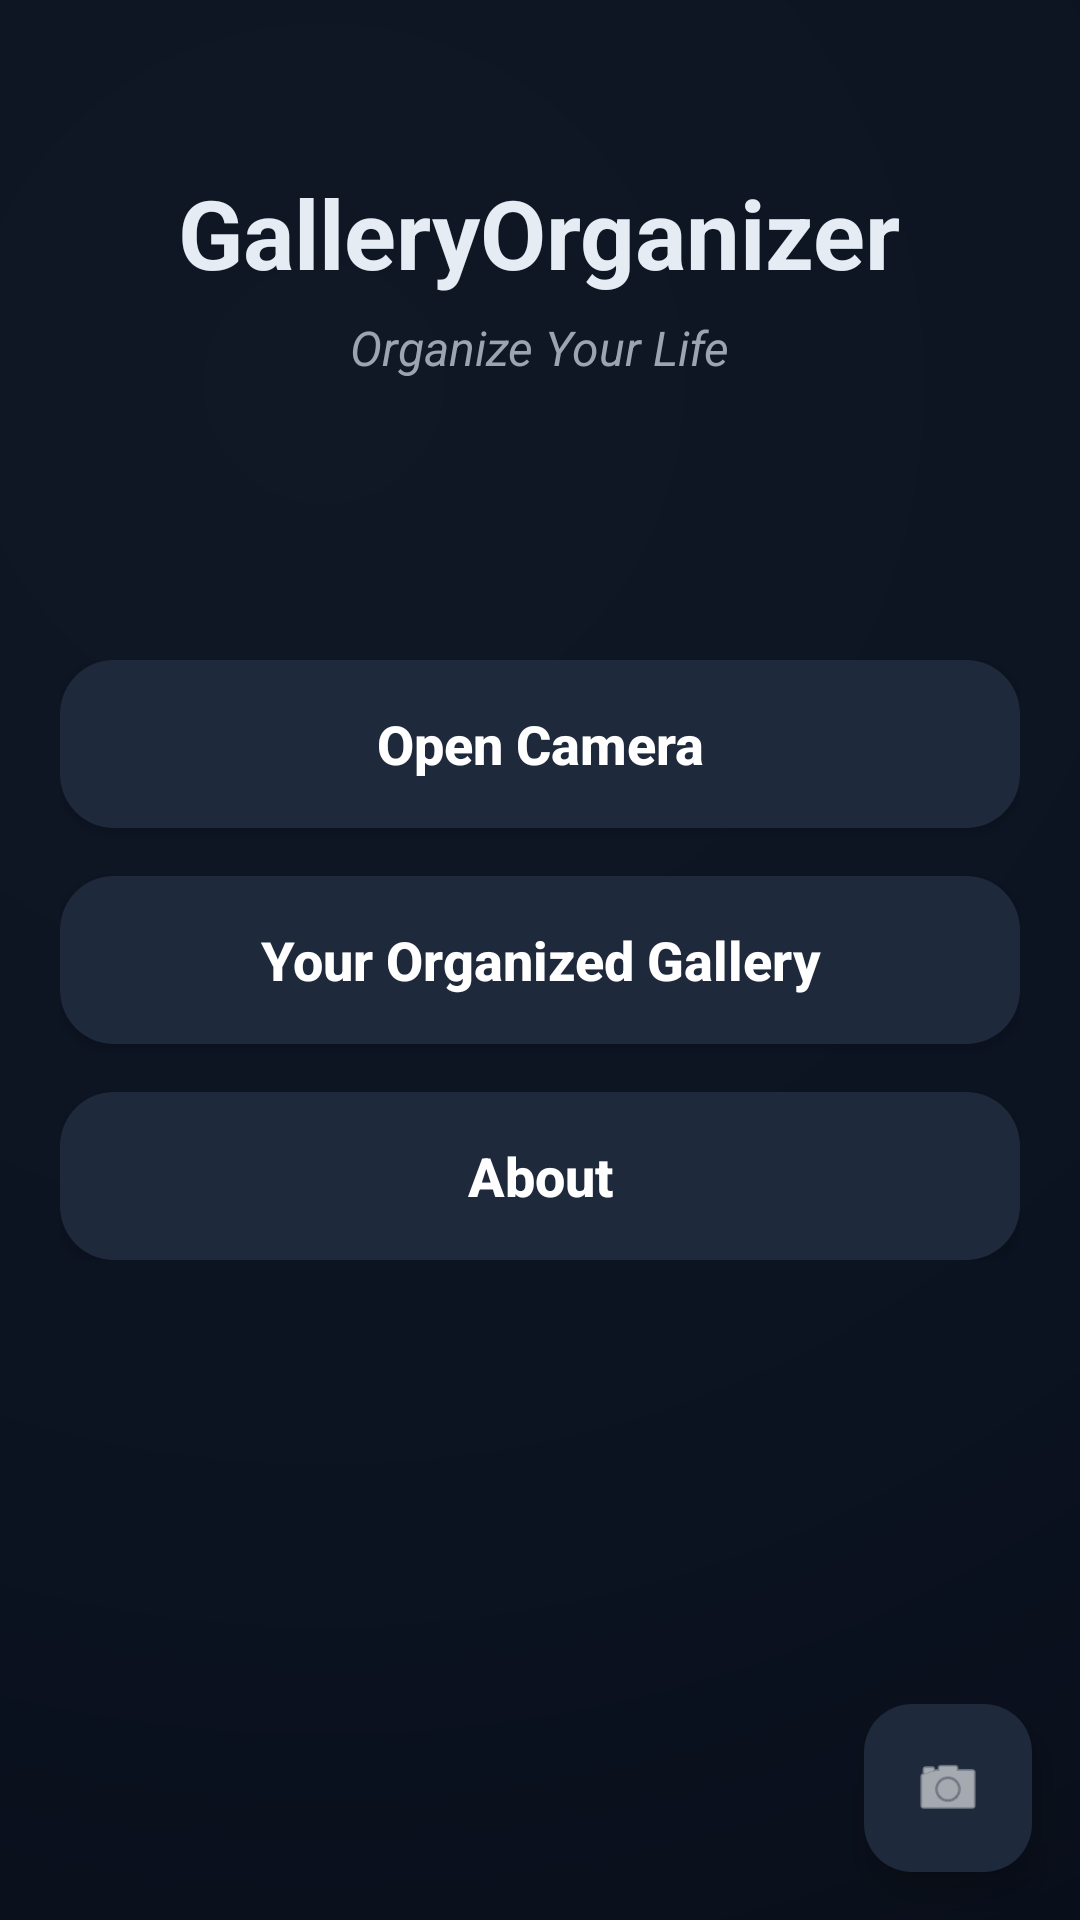

Point at icon controls on the screen. Image size 1080px×1920px, points as point (x, y).
camera: point (948, 1788)
